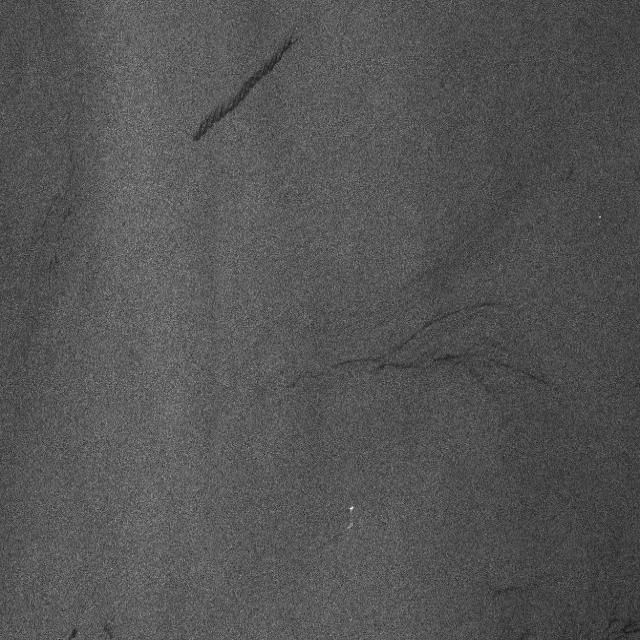oil-spill: (188, 29, 302, 155), (64, 605, 83, 640), (98, 616, 116, 640)
